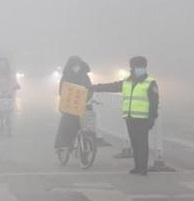person: (91, 54, 163, 177), (52, 55, 99, 169), (1, 58, 21, 139)
